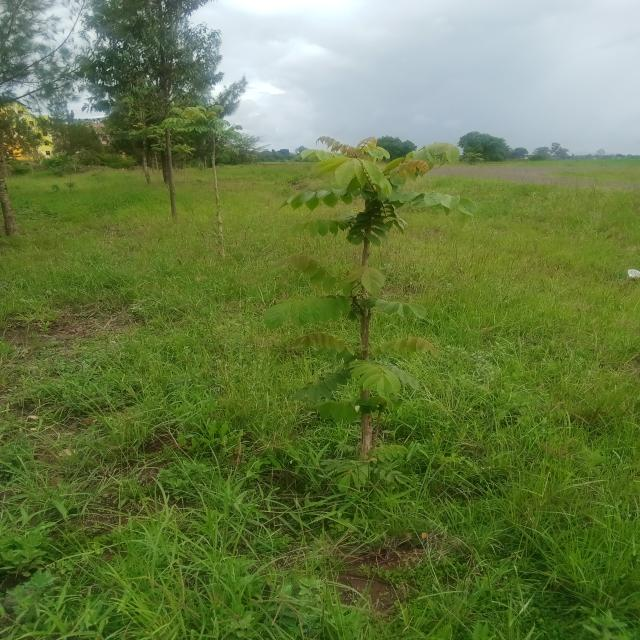Polyscias Kikuyensis: (282, 124, 479, 492), (146, 80, 264, 250)
